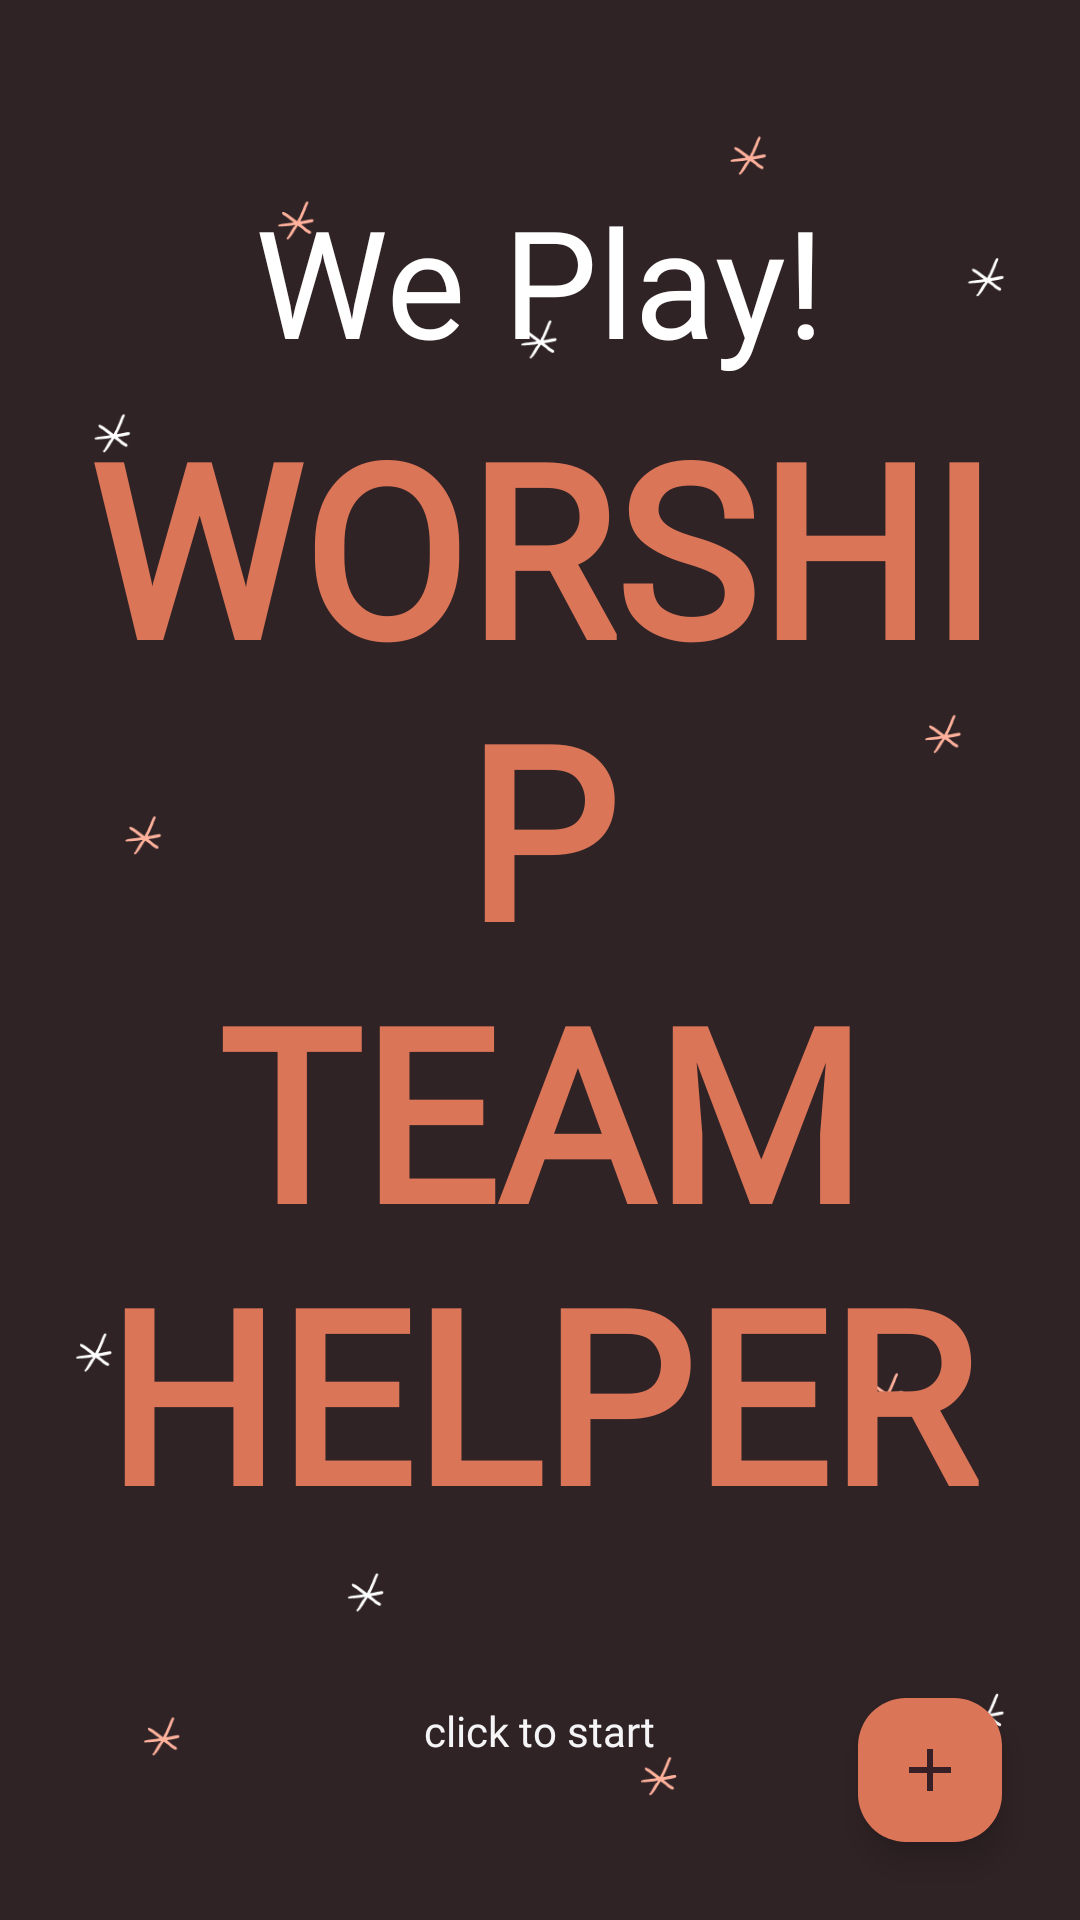

Point at icon controls on the screen. Image size 1080px x 1920px, points as (x=x, y=y).
Add Song: (x=930, y=1770)
